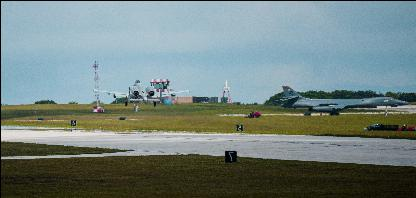A10: (92, 78, 190, 106)
AV8B: (275, 84, 409, 114)
